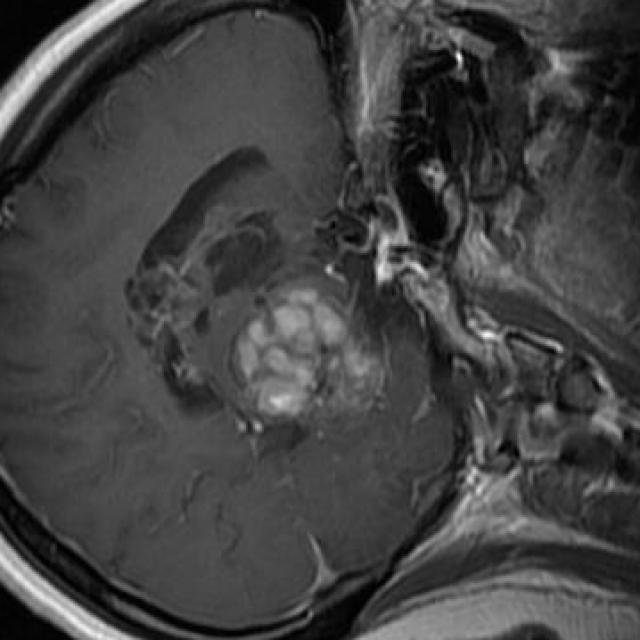glioma: (125, 210, 387, 458)
